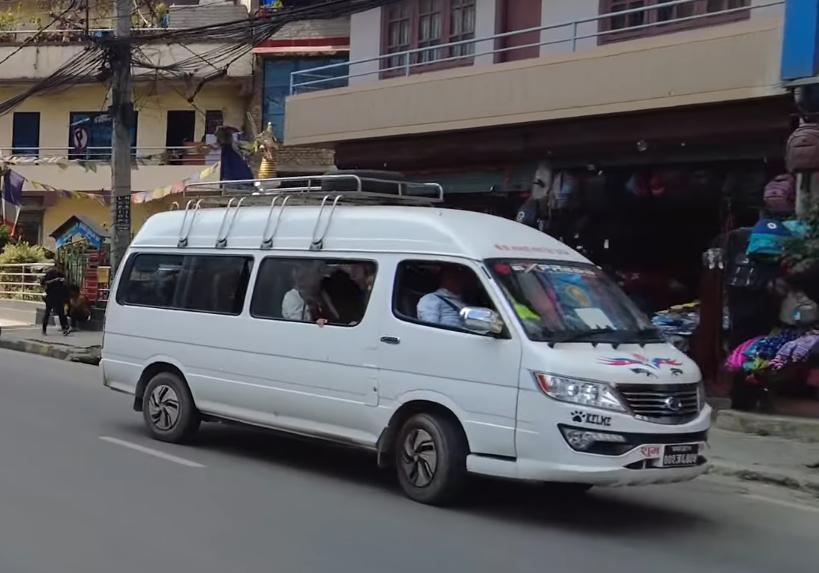micro_bus: (89, 174, 717, 501)
